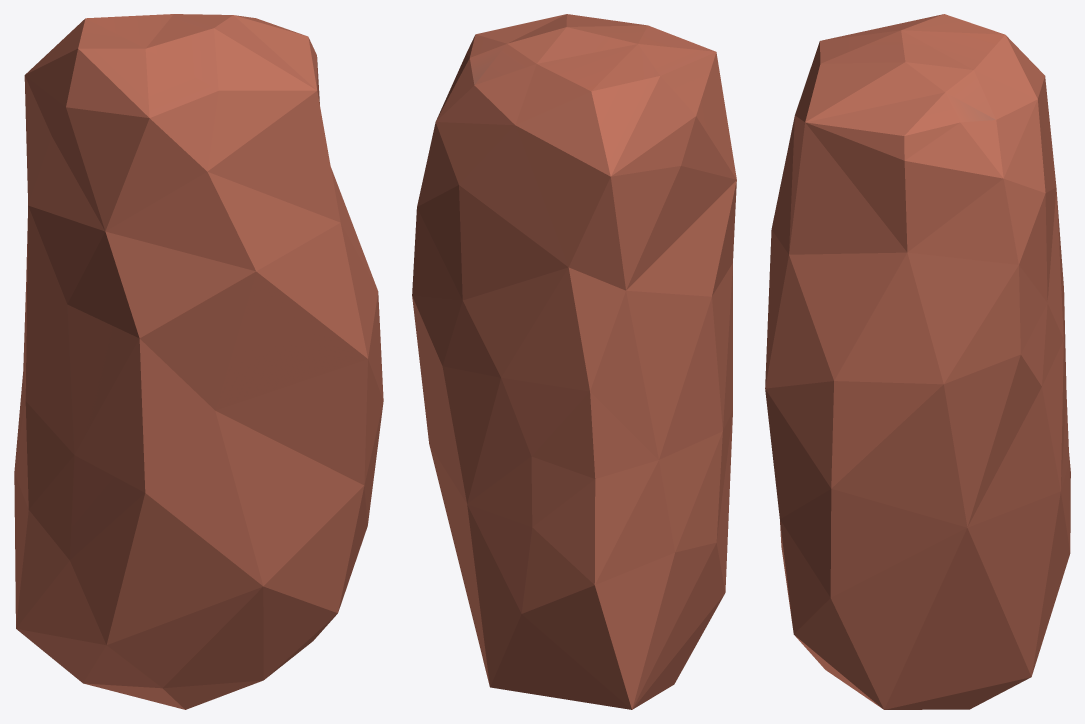
File: boulder_005.fbx
3 renders of one model, left to right at view 1: azimuth 30°, elevation 25°; view 2: azimuth 150°, elevation 25°; view 3: azimuth 270°, elevation 25°, orthographic. The views are drawn at different scales.
Parts seen in each view (by area): view 1: boulder_005; view 2: boulder_005; view 3: boulder_005.
Part boxes in pixels (x1,y1,x2,y2): boulder_005: (14,14,383,709); boulder_005: (412,14,736,709); boulder_005: (765,14,1070,709).
Bounding box in the file's own units: 777 × 758 × 1771.
